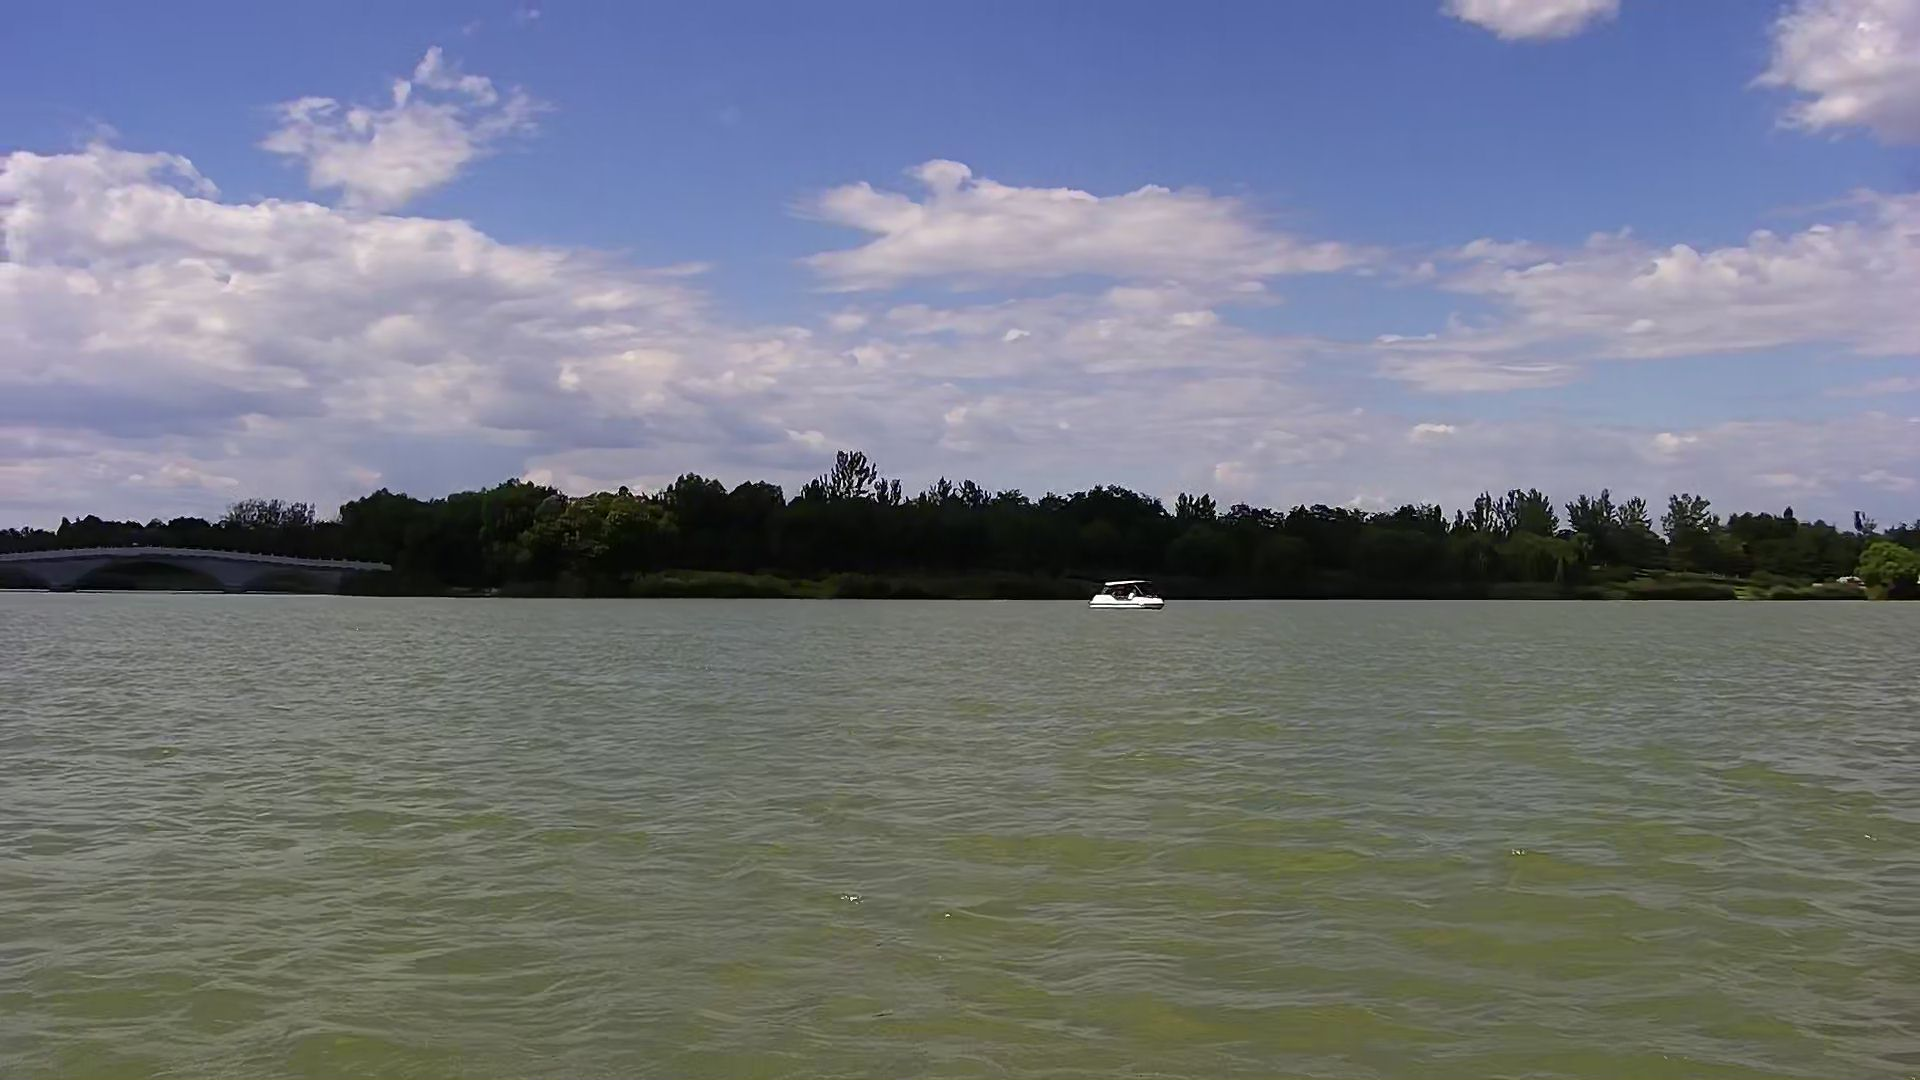boat: (1091, 576, 1174, 615)
bridge: (1, 542, 407, 599)
